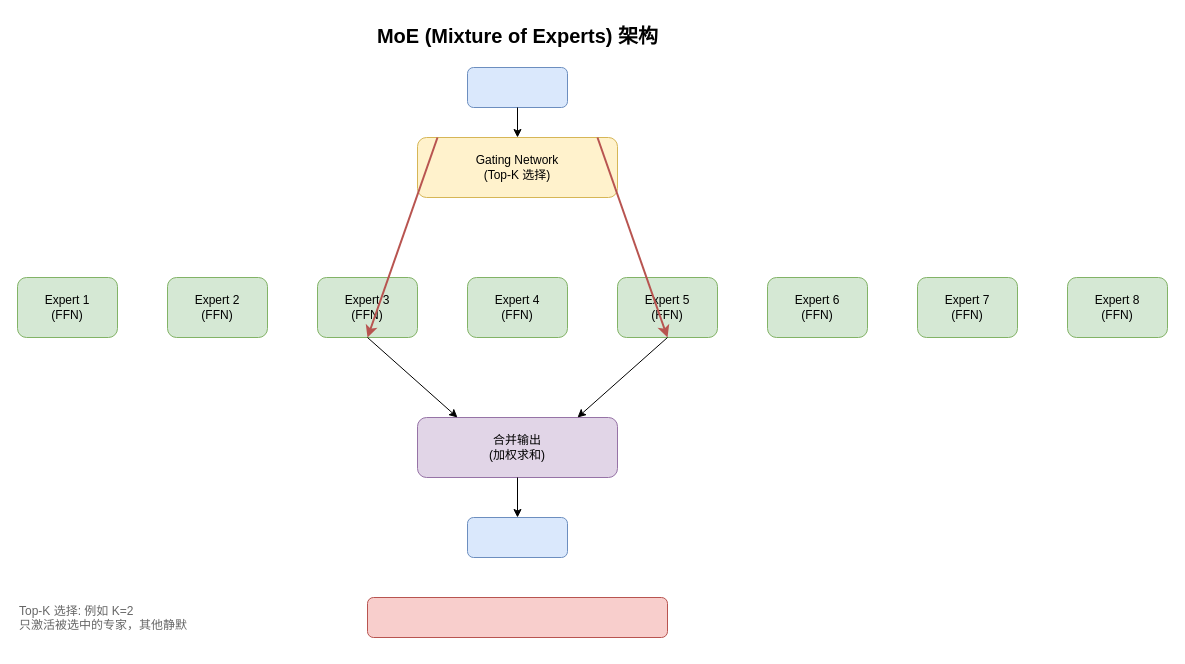
Some shapes in this 1185 by 664 pixel diagram are drawn without their labels. Each missing label, with the centre of its shape:
"Input Token" belongs at (517,87).
"Output" belongs at (517,537).
"稀疏激活: 8个专家只激活2个 = 75%计算量节省" belongs at (517,617).
